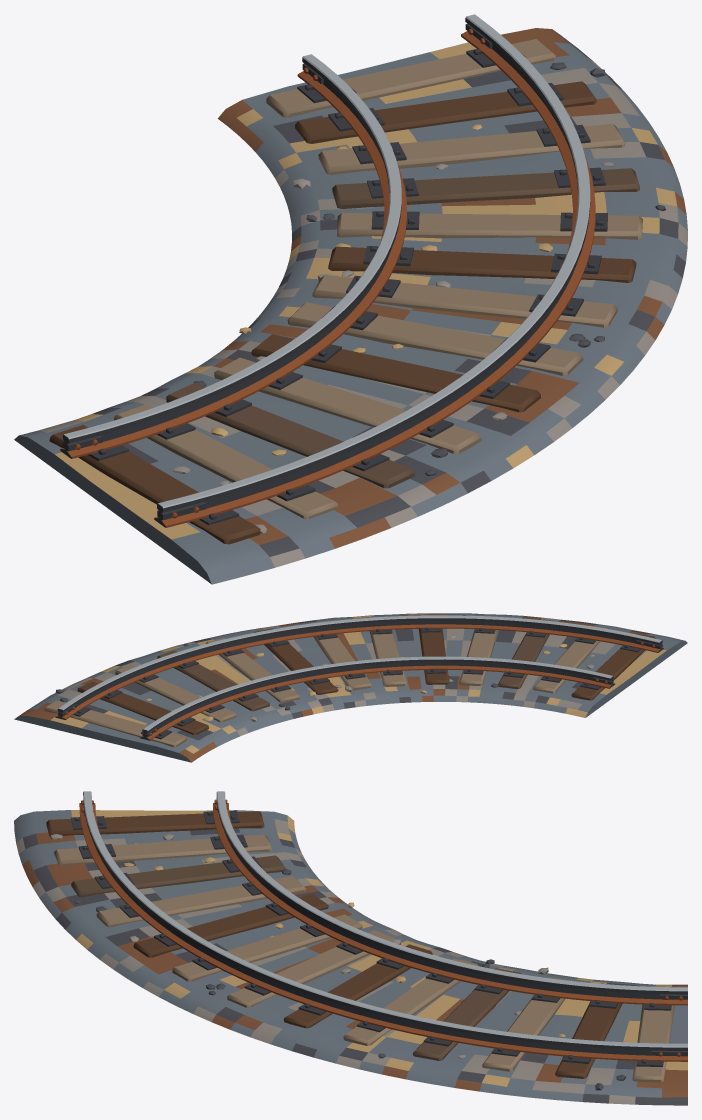
Rendered from deco_rail_curve.fbx.
3 renders of one model, top to bottom at view 1: azimuth 30°, elevation 25°; view 2: azimuth 150°, elevation 25°; view 3: azimuth 270°, elevation 25°, orthographic. The views are drawn at different scales.
Visible parts, largest first — view 1: Rail_Curve_Ballast, Rail_Curve_Sleepers, Rail_Curve_Rails, Rail_Curve_Spikes; view 2: Rail_Curve_Ballast, Rail_Curve_Rails, Rail_Curve_Sleepers, Rail_Curve_Spikes; view 3: Rail_Curve_Ballast, Rail_Curve_Sleepers, Rail_Curve_Rails, Rail_Curve_Spikes.
Part boxes in pixels (bbox=[...]): Rail_Curve_Ballast: bbox=[14, 28, 687, 584]; Rail_Curve_Sleepers: bbox=[49, 39, 642, 544]; Rail_Curve_Rails: bbox=[60, 14, 595, 527]; Rail_Curve_Spikes: bbox=[75, 29, 607, 525]; Rail_Curve_Ballast: bbox=[14, 613, 687, 762]; Rail_Curve_Rails: bbox=[55, 615, 663, 740]; Rail_Curve_Sleepers: bbox=[44, 616, 655, 747]; Rail_Curve_Spikes: bbox=[65, 627, 655, 739]; Rail_Curve_Ballast: bbox=[14, 810, 687, 1105]; Rail_Curve_Sleepers: bbox=[46, 811, 674, 1082]; Rail_Curve_Rails: bbox=[79, 791, 687, 1061]; Rail_Curve_Spikes: bbox=[71, 799, 682, 1066].
Bounding box in the file's own units: 505 × 25.56 × 505.
